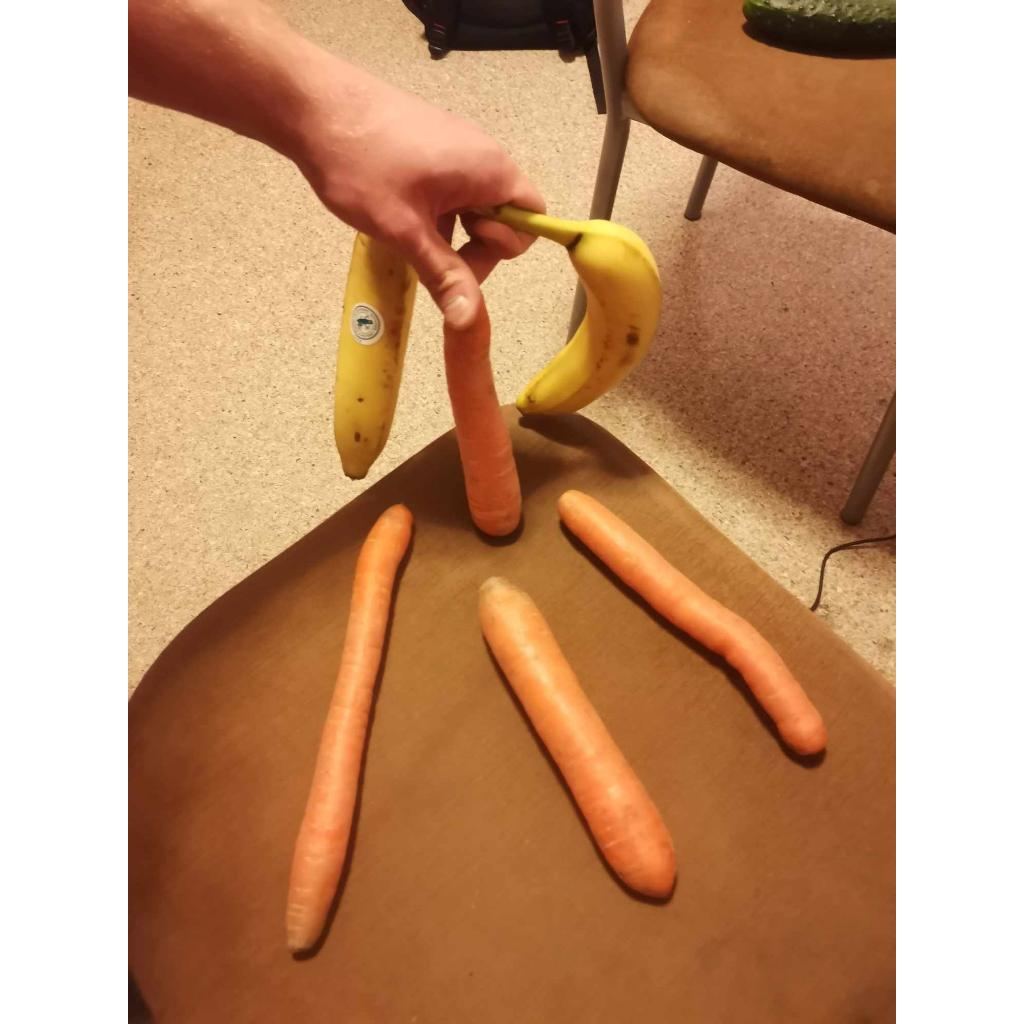banana: (494, 206, 660, 414), (334, 232, 418, 478)
carrot: (558, 490, 826, 754), (478, 578, 676, 898), (286, 504, 412, 952), (444, 302, 522, 536)
